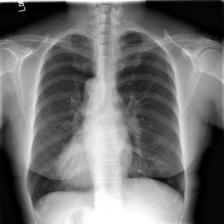normal: (22, 24, 190, 212)
